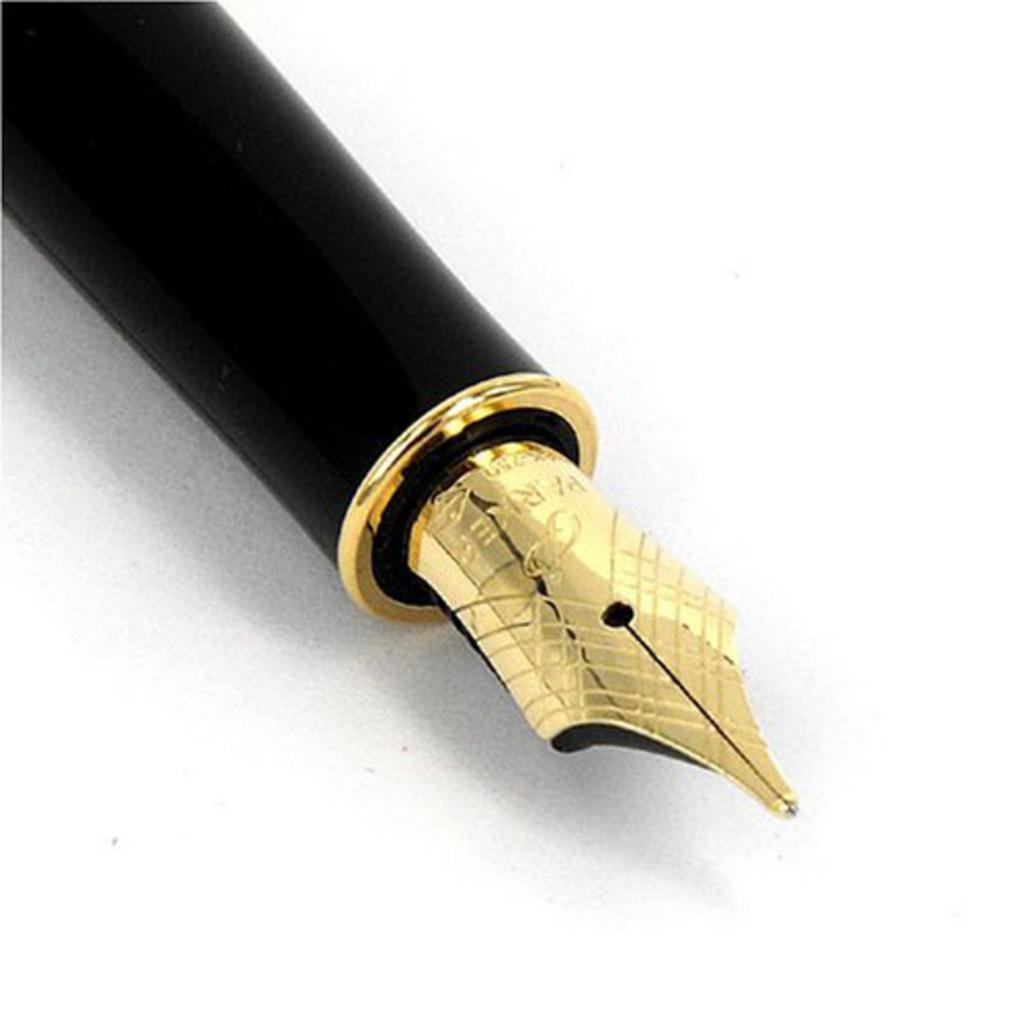pen: (0, 0, 805, 821)
